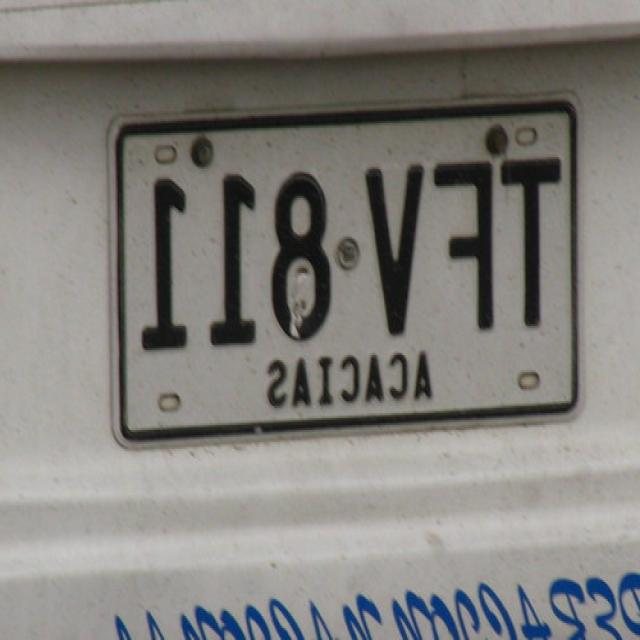placas: (116, 102, 571, 433)
